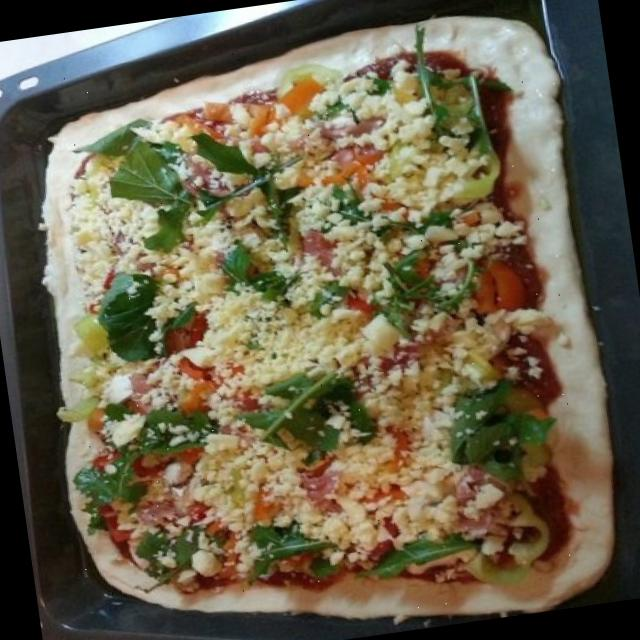basil: (394, 24, 510, 202), (110, 496, 256, 608), (185, 118, 314, 243), (62, 404, 190, 522), (240, 348, 368, 461), (442, 384, 552, 499), (104, 133, 200, 245), (364, 247, 476, 340), (209, 230, 302, 338), (358, 520, 492, 594), (222, 509, 334, 581), (100, 273, 176, 366), (316, 182, 386, 245)
cheese: (352, 100, 452, 232), (364, 350, 472, 462), (54, 180, 158, 295), (202, 304, 334, 394), (198, 439, 310, 523), (386, 464, 476, 546), (332, 425, 403, 503), (322, 496, 381, 556)
pizza: (43, 18, 612, 621)
